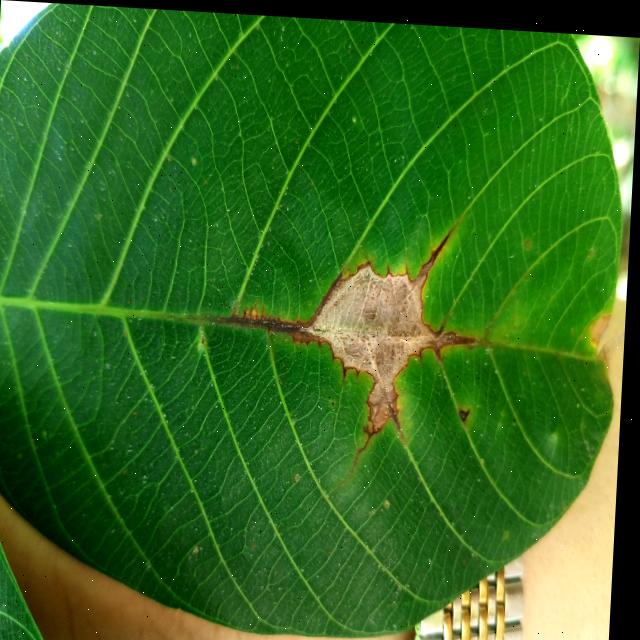Corynespora: (221, 262, 346, 344), (417, 212, 460, 276), (355, 411, 385, 472), (435, 317, 480, 355), (391, 406, 413, 443)
Leaf-Blight: (300, 252, 442, 432)
